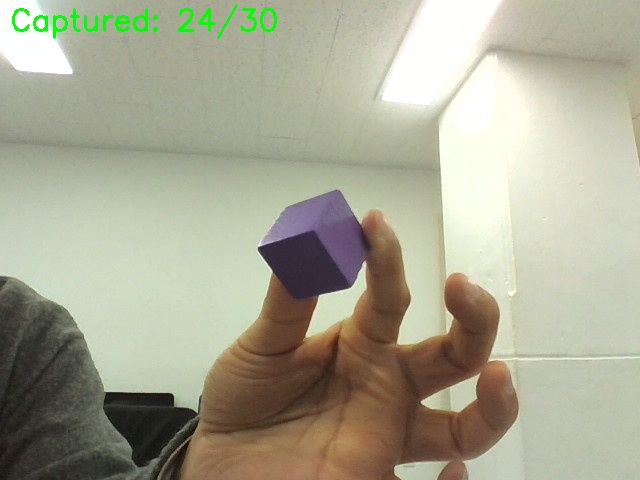Normal: (242, 237, 352, 347)
